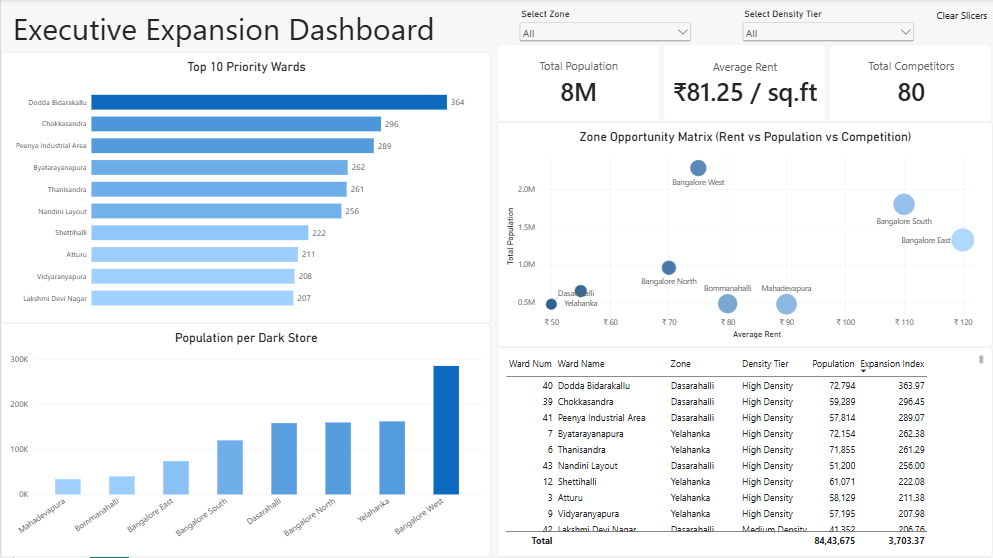

The dashboard page shown, as its layout file describes it:
{"tool":"powerbi","page":{"name":"Page 1","canvas":[1920,1080],"ordinal":0},"visuals":[{"type":"tableEx","fields":{"Values":["dim_geography.Ward Num","dim_geography.Ward Name","dim_zone.Zone","fact_ward_metrics.Density Tier","_Measures.Total Population","_Measures.Expansion Index"]},"box":[960.9,673.9,958.8,406.1],"z":0},{"type":"textbox","box":[23.4,14.9,831.3,87.2],"z":1000},{"type":"cardVisual","fields":{"Data":["_Measures.Total Population","_Measures.Formatted Cost Per SqFt","_Measures.Total Competitors"]},"box":[960.9,87.2,958.8,150.9],"z":2000},{"type":"clusteredBarChart","title":"Top 10 Priority Wards","fields":{"Category":["dim_geography.Ward Name"],"Y":["_Measures.Expansion Index"]},"box":[0,102,948.2,525.1],"z":3000},{"type":"clusteredColumnChart","title":"Population per Dark Store","fields":{"Category":["dim_zone.Zone"],"Y":["_Measures.Customers per Dark Store"]},"box":[0,627.2,948.2,452.8],"z":4000},{"type":"slicer","fields":{"Values":["dim_zone.Zone"]},"box":[999.2,17,342.3,85],"z":5000},{"type":"slicer","fields":{"Values":["fact_ward_metrics.Density Tier"]},"box":[1430.8,17,342.3,85],"z":6000},{"type":"scatterChart","title":"Zone Opportunity Matrix (Rent vs Population vs Competition)","fields":{"Category":["dim_zone.Zone"],"Size":["_Measures.Total Competitors"],"X":["_Measures.Average Rent"],"Y":["_Measures.Total Population"]},"box":[960.9,238.1,958.8,435.8],"z":7000},{"type":"actionButton","box":[1807.1,0,104.2,61.7],"z":7001}]}

Visuals, with their boxes in screenshot pixels (x1, y1, x2, y2), scaled from the page's 1920x1080 canvas onto the 993x558 screenshot:
tableEx - dim_geography.Ward Num x dim_geography.Ward Name: x1=497, y1=348, x2=992, y2=557
textbox: x1=12, y1=8, x2=442, y2=53
cardVisual - _Measures.Total Population x _Measures.Formatted Cost Per SqFt: x1=497, y1=45, x2=992, y2=123
"Top 10 Priority Wards" clusteredBarChart: x1=0, y1=53, x2=490, y2=324
"Population per Dark Store" clusteredColumnChart: x1=0, y1=324, x2=490, y2=557
slicer - dim_zone.Zone: x1=517, y1=9, x2=694, y2=53
slicer - fact_ward_metrics.Density Tier: x1=740, y1=9, x2=917, y2=53
"Zone Opportunity Matrix (Rent vs Population vs Competition)" scatterChart: x1=497, y1=123, x2=992, y2=348
actionButton: x1=935, y1=0, x2=989, y2=32
